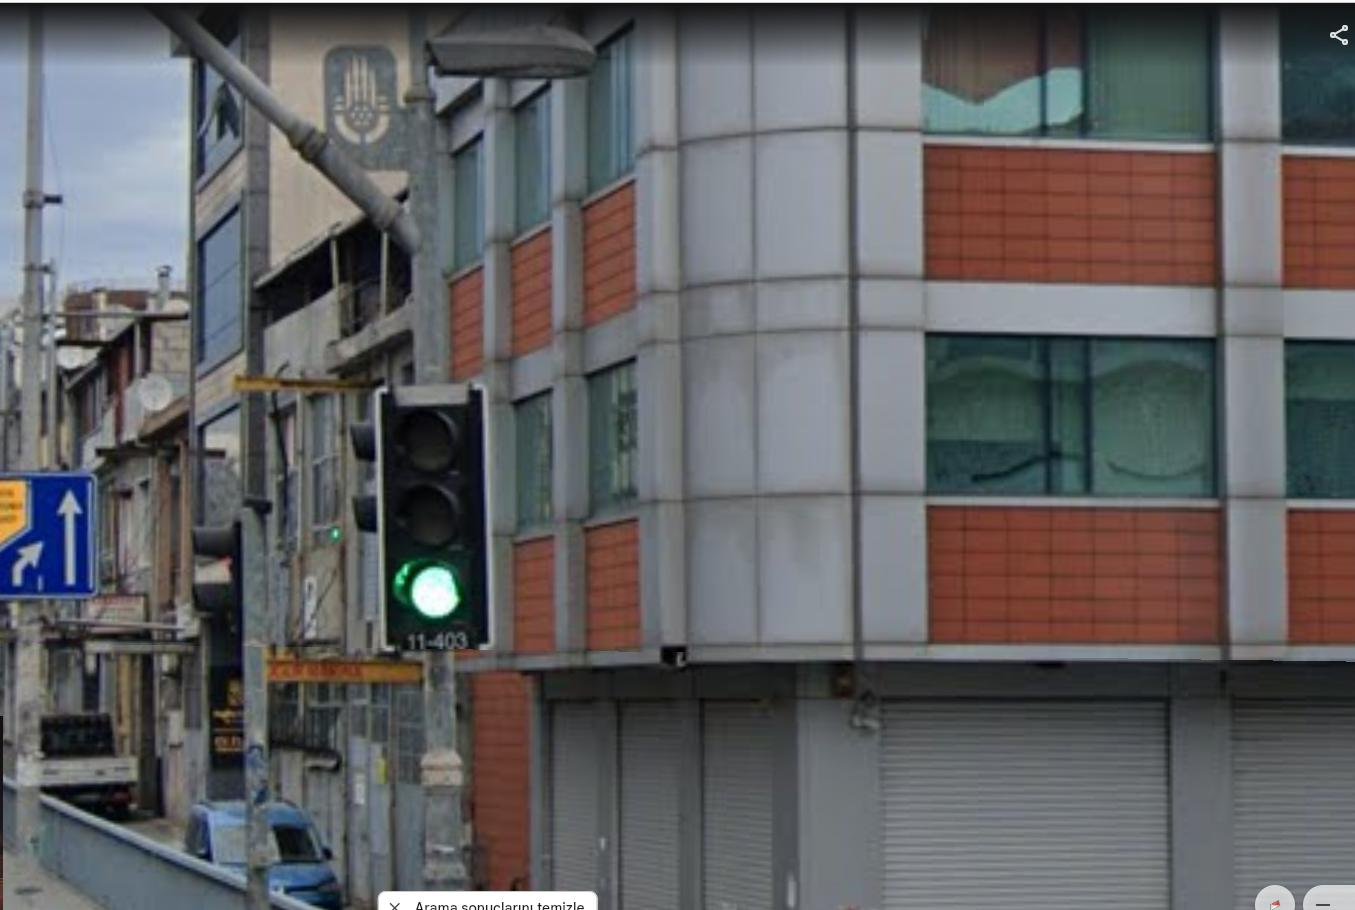greenlight: (379, 390, 489, 631)
